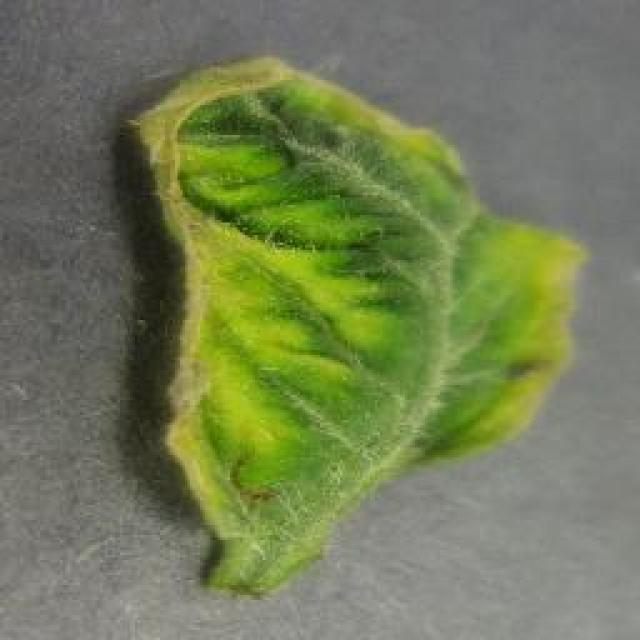Tomato yellow virus leaf: (121, 59, 581, 589)
